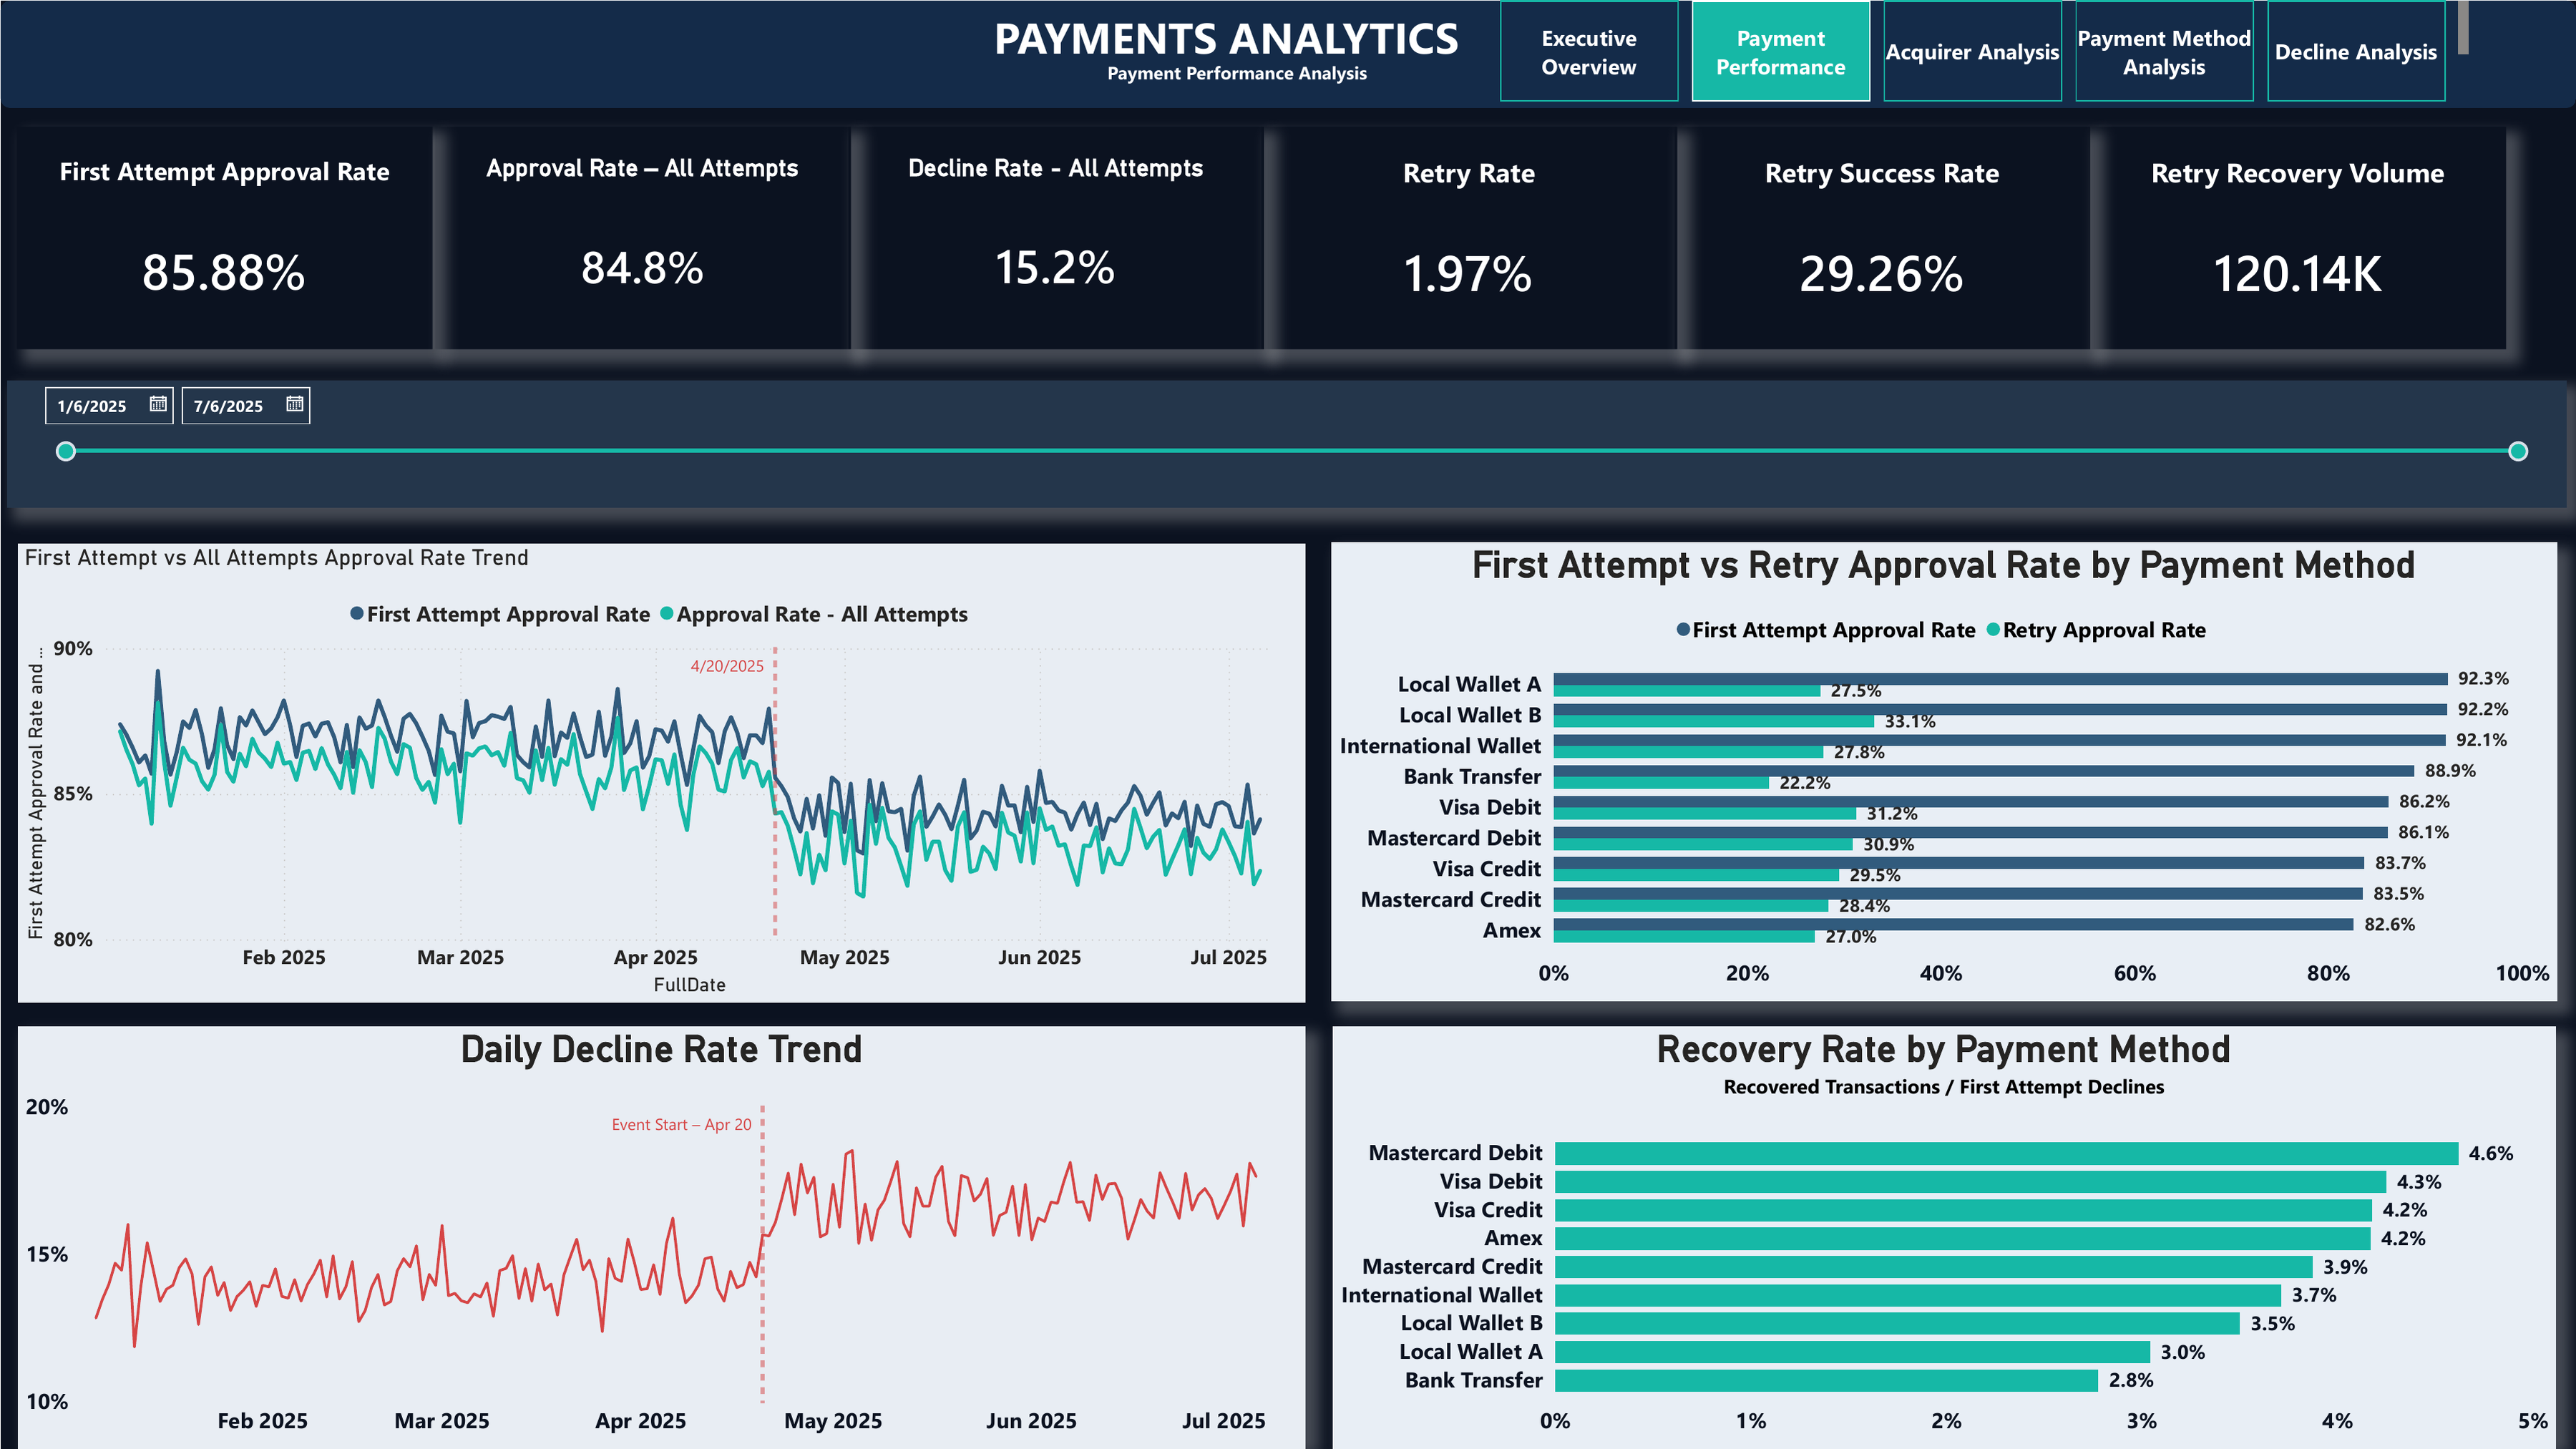

What the dashboard file says about the page in this screenshot:
{"tool":"powerbi","page":{"name":"Payment Performance","canvas":[1920,1080],"ordinal":1},"visuals":[{"type":"shape","box":[0,0,1920,80],"z":0},{"type":"textbox","box":[727.5,0,372.5,60],"z":1000},{"type":"textbox","box":[726.7,40,390,35],"z":2000},{"type":"cardVisual","title":"First Attempt Approval Rate","fields":{"Data":["_Measures.First Attempt Approval Rate"]},"box":[12,94,310,166],"z":3000},{"type":"cardVisual","title":"Approval Rate – All Attempts","fields":{"Data":["_Measures.Approval Rate - All Attempts"]},"box":[324,94,310,166],"z":4000},{"type":"slicer","title":"Date Range","fields":{"Values":["DimDate.FullDate"]},"box":[5,282.5,1907.5,95],"z":5000},{"type":"cardVisual","title":"Retry Success Rate","fields":{"Data":["_Measures.Retry Success Rate"]},"box":[1248,94,310,166],"z":6000},{"type":"cardVisual","title":"\tRetry Rate","fields":{"Data":["_Measures.Retry Rate"]},"box":[940,94,310,166],"z":7000},{"type":"cardVisual","title":"Decline Rate - All Attempts","fields":{"Data":["_Measures.Decline Rate - All Attempts"]},"box":[632,94,310,166],"z":8000},{"type":"clusteredBarChart","title":"First Attempt vs Retry Approval Rate by Payment Method","fields":{"Category":["DimPaymentMethod.PaymentMethodName"],"Y":["_Measures.First Attempt Approval Rate","_Measures.Retry Approval Rate"]},"box":[992,404,914,342],"z":9000},{"type":"lineChart","title":"\tDaily Decline Rate Trend","fields":{"Category":["DimDate.FullDate"],"Y":["_Measures.Decline Rate - All Attempts"]},"box":[12.5,765,960,315],"z":10000},{"type":"clusteredBarChart","title":"Recovery Rate by Payment Method","fields":{"Category":["DimPaymentMethod.PaymentMethodName"],"Y":["_Measures.Recovery Rate"]},"box":[992.5,765,912.5,315],"z":11000},{"type":"pageNavigator","box":[1117.5,0,722.5,80],"z":12000},{"type":"cardVisual","title":"Retry Recovery Volume","fields":{"Data":["_Measures.Retry Recovery Volume"]},"box":[1558,94,310,166],"z":13000},{"type":"lineChart","title":"First Attempt vs All Attempts Approval Rate Trend","fields":{"Category":["DimDate.FullDate"],"Y":["_Measures.First Attempt Approval Rate","_Measures.Approval Rate - All Attempts"]},"box":[12.5,405,960,342],"z":14000}]}

Visuals, with their boxes in screenshot pixels (x1, y1, x2, y2), scaled from the page's 1920x1080 canvas onto the 2576x1449 screenshot:
shape: pyautogui.locateOnScreen(0, 0, 2575, 107)
textbox: pyautogui.locateOnScreen(976, 0, 1475, 80)
textbox: pyautogui.locateOnScreen(975, 54, 1498, 101)
"First Attempt Approval Rate" cardVisual: pyautogui.locateOnScreen(16, 126, 432, 349)
"Approval Rate – All Attempts" cardVisual: pyautogui.locateOnScreen(435, 126, 851, 349)
"Date Range" slicer: pyautogui.locateOnScreen(6, 379, 2566, 507)
"Retry Success Rate" cardVisual: pyautogui.locateOnScreen(1674, 126, 2090, 349)
"	Retry Rate" cardVisual: pyautogui.locateOnScreen(1261, 126, 1677, 349)
"Decline Rate - All Attempts" cardVisual: pyautogui.locateOnScreen(848, 126, 1264, 349)
"First Attempt vs Retry Approval Rate by Payment Method" clusteredBarChart: pyautogui.locateOnScreen(1331, 542, 2557, 1001)
"	Daily Decline Rate Trend" lineChart: pyautogui.locateOnScreen(16, 1026, 1304, 1448)
"Recovery Rate by Payment Method" clusteredBarChart: pyautogui.locateOnScreen(1332, 1026, 2556, 1448)
pageNavigator: pyautogui.locateOnScreen(1499, 0, 2469, 107)
"Retry Recovery Volume" cardVisual: pyautogui.locateOnScreen(2090, 126, 2506, 349)
"First Attempt vs All Attempts Approval Rate Trend" lineChart: pyautogui.locateOnScreen(16, 543, 1304, 1002)
